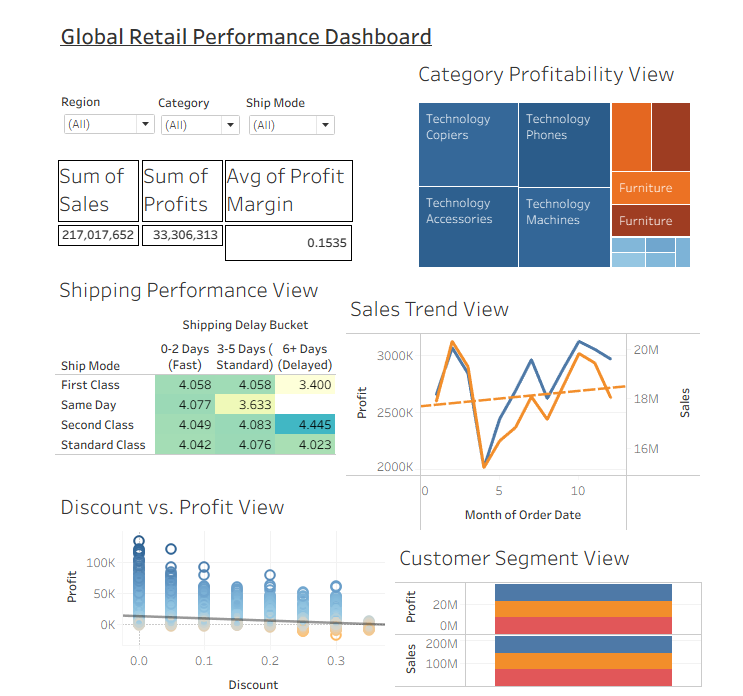

What the dashboard file says about the page in this screenshot:
{"tool":"tableau","page":{"name":"Global Retail Performance Dashboard","canvas":[650,860],"ordinal":0},"visuals":[{"type":"title","box":[3,15.4,428,64.5]},{"type":"worksheet","title":"Category Profitability View","mark":"Automatic","box":[360,66,280,319.4]},{"type":"filter","title":"Avg of Profit Margin","param":"[federated.0rmz1au1f9z0fe18ah7mr1csm0d9].[none:region:nk]","box":[6,116.7,97,64.5]},{"type":"filter","title":"Category Profitability View","param":"[federated.0rmz1au1f9z0fe18ah7mr1csm0d9].[none:category:nk]","box":[103,118.2,85,63]},{"type":"filter","title":"Shipping Performance View","param":"[federated.0rmz1au1f9z0fe18ah7mr1csm0d9].[none:ship_mode:nk]","box":[191,118.2,92,58.4]},{"type":"worksheet","title":"Sum of Sales","mark":"Automatic","box":[3,199.6,84,144.4]},{"type":"worksheet","title":"Sum of Profits","mark":"Automatic","box":[87,199.6,89,144.4]},{"type":"worksheet","title":"Avg of Profit Margin","mark":"Automatic","box":[170,199.6,128,124.4]},{"type":"worksheet","title":"Shipping Performance View","mark":"Automatic","rows":["ship_mode"],"cols":["Calculation_0764727191113732"],"box":[0,336.3,326,297.9]},{"type":"worksheet","title":"Sales Trend View","mark":"Automatic","rows":["profit","sales"],"cols":["order_date"],"box":[291,365.5,355,290.2]},{"type":"worksheet","title":"Customer Segment View","mark":"Automatic","rows":["profit","sales"],"box":[340,666.5,307,182.8]}]}

Visuals, with their boxes on the page's 650x860 design canvas (x1, y1, x2, y2). These are canvas units, not pixel positions in the 743x696 screenshot, which may show the page scaled, cropped or inside an application window:
title: x1=3, y1=15, x2=431, y2=80
"Category Profitability View" worksheet: x1=360, y1=66, x2=640, y2=385
"Avg of Profit Margin" filter: x1=6, y1=117, x2=103, y2=181
"Category Profitability View" filter: x1=103, y1=118, x2=188, y2=181
"Shipping Performance View" filter: x1=191, y1=118, x2=283, y2=177
"Sum of Sales" worksheet: x1=3, y1=200, x2=87, y2=344
"Sum of Profits" worksheet: x1=87, y1=200, x2=176, y2=344
"Avg of Profit Margin" worksheet: x1=170, y1=200, x2=298, y2=324
"Shipping Performance View" worksheet: x1=0, y1=336, x2=326, y2=634
"Sales Trend View" worksheet: x1=291, y1=366, x2=646, y2=656
"Customer Segment View" worksheet: x1=340, y1=666, x2=647, y2=849
